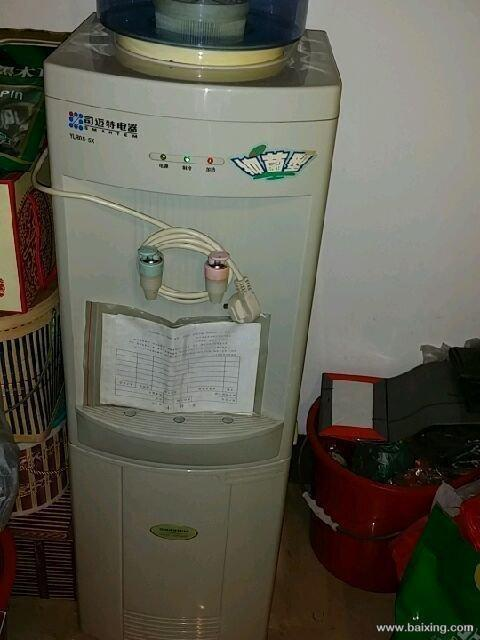Dispenser: (41, 0, 343, 639)
